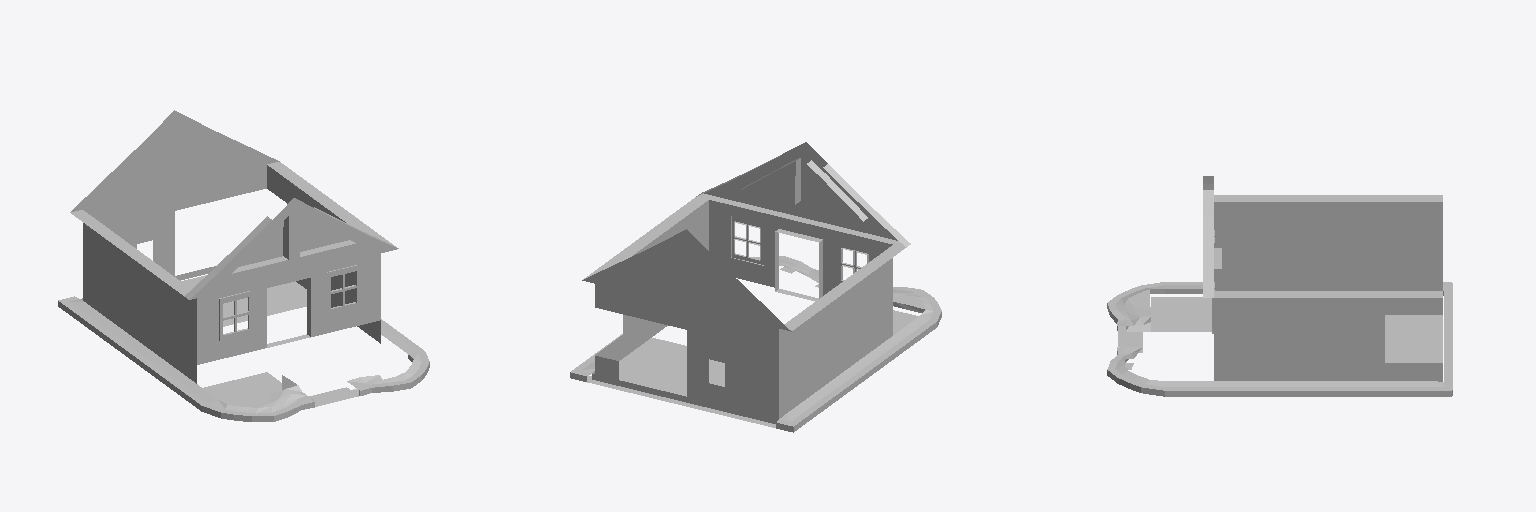
Rendered from house_lowPoly.obj.
The picture shows the model from 3 angles: view 1: azimuth 30°, elevation 25°; view 2: azimuth 150°, elevation 25°; view 3: azimuth 270°, elevation 25°; orthographic projection.
Parts seen in each view (by area): view 1: polySurface19 polySurface17 polySurface12 polySurface1 cabin_b:p; view 2: polySurface19 polySurface17 polySurface12 polySurface1 cabin_b:p; view 3: polySurface19 polySurface17 polySurface12 polySurface1 cabin_b:p.
Part boxes in pixels (x1,y1,x2,y2): polySurface19 polySurface17 polySurface12 polySurface1 cabin_b:p: (58,110,429,421); polySurface19 polySurface17 polySurface12 polySurface1 cabin_b:p: (570,142,941,432); polySurface19 polySurface17 polySurface12 polySurface1 cabin_b:p: (1107,176,1452,396).
Bounding box in the file's own units: 14.66 × 10.81 × 19.6.